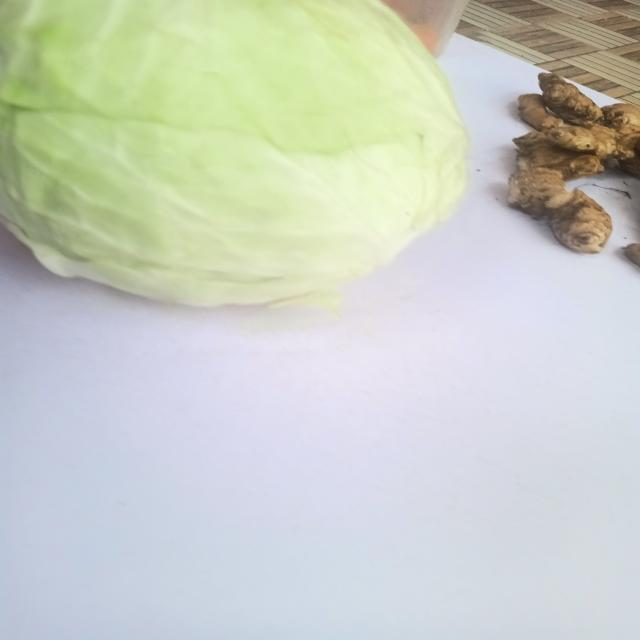Cabbage: (7, 3, 476, 319)
